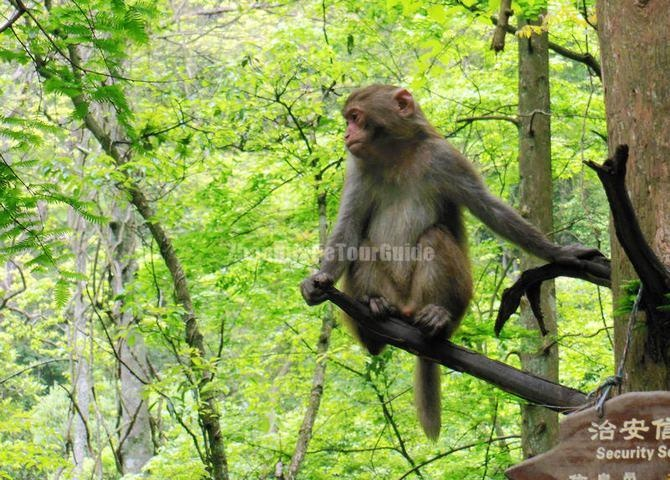monkey: (298, 78, 613, 441)
